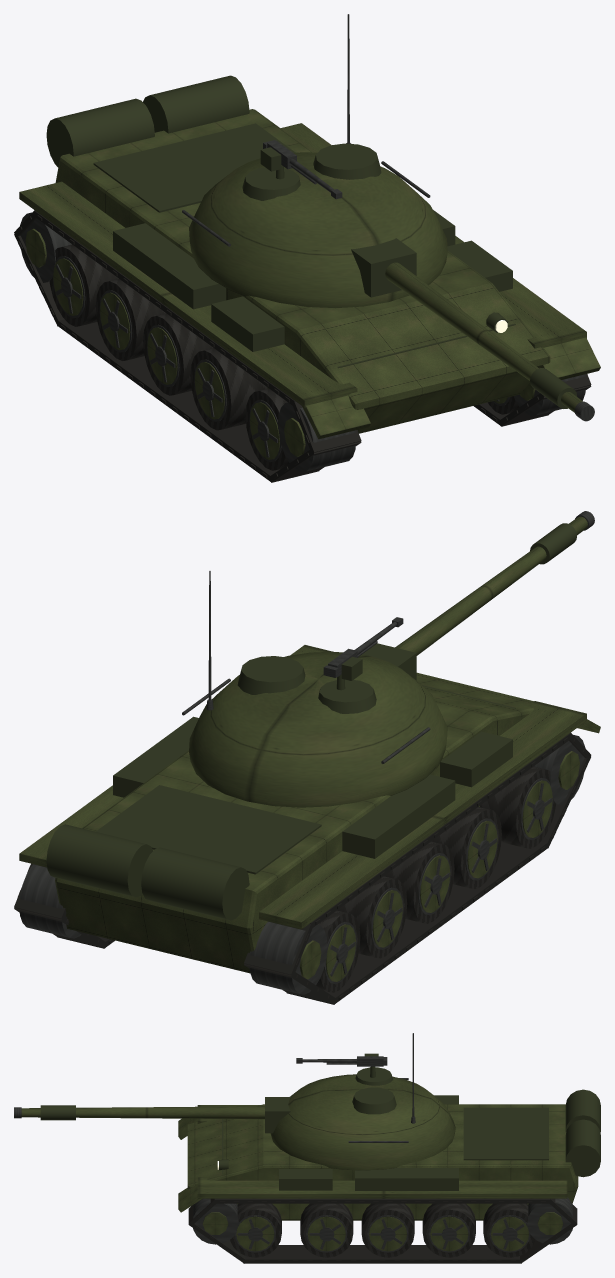
3 renders of one model, top to bottom at view 1: azimuth 30°, elevation 25°; view 2: azimuth 150°, elevation 25°; view 3: azimuth 270°, elevation 25°, orthographic. The views are drawn at different scales.
Visible parts, largest first — view 1: T54_55_MBT; view 2: T54_55_MBT; view 3: T54_55_MBT.
Boxes of the visible parts, x1=… form: T54_55_MBT: x1=14, y1=14, x2=600, y2=482; T54_55_MBT: x1=14, y1=511, x2=600, y2=1004; T54_55_MBT: x1=14, y1=1033, x2=600, y2=1263.
Size of the model in its own units: 3.34 by 3.64 by 9.29.
Materials: 6 (3 with a texture image).
